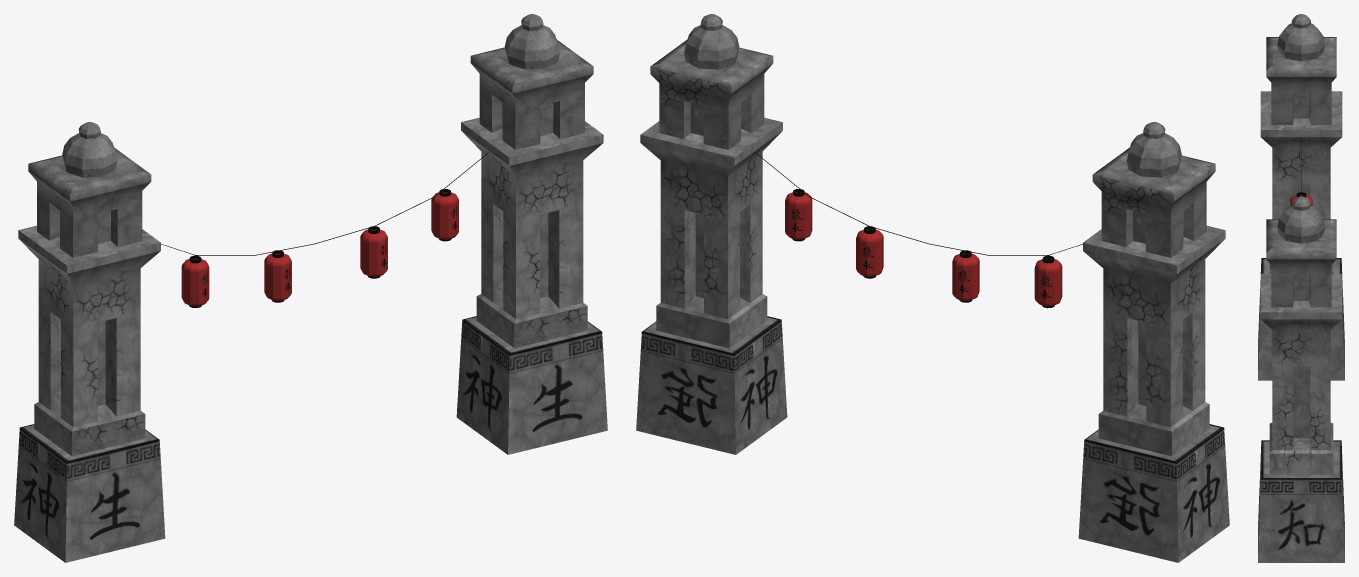
File: PortalProp_V1Normal.fbx
The picture shows the model from 3 angles, left to right: view 1: azimuth 30°, elevation 25°; view 2: azimuth 150°, elevation 25°; view 3: azimuth 270°, elevation 25°; orthographic projection. The views are drawn at different scales.
Visible parts, largest first — view 1: Column2, Column, Farol4, Farol3, Farol1, Farol2; view 2: Column2, Column, Farol4, Farol1, Farol2, Farol3; view 3: Column2, Column.
Boxes of the visible parts, box(x1,y1,x2,y2) form: Column2: box(456, 14, 607, 454); Column: box(14, 122, 165, 562); Farol4: box(181, 255, 209, 307); Farol3: box(264, 250, 291, 302); Farol1: box(431, 189, 458, 241); Farol2: box(360, 226, 387, 278); Column2: box(636, 14, 787, 454); Column: box(1078, 122, 1229, 562); Farol4: box(1034, 255, 1062, 308); Farol1: box(785, 189, 812, 241); Farol2: box(856, 226, 883, 278); Farol3: box(952, 250, 979, 302); Column2: box(1258, 196, 1344, 562); Column: box(1258, 14, 1344, 380).
Bounding box in the file's own units: 14.66 × 10.56 × 2.4.
3 materials, 3 textured.
